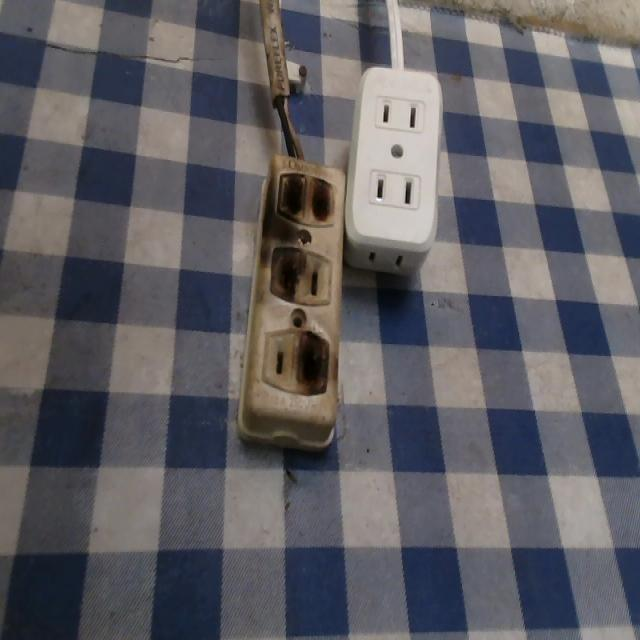-: (260, 160, 346, 236), (294, 330, 339, 406), (257, 246, 309, 306)
